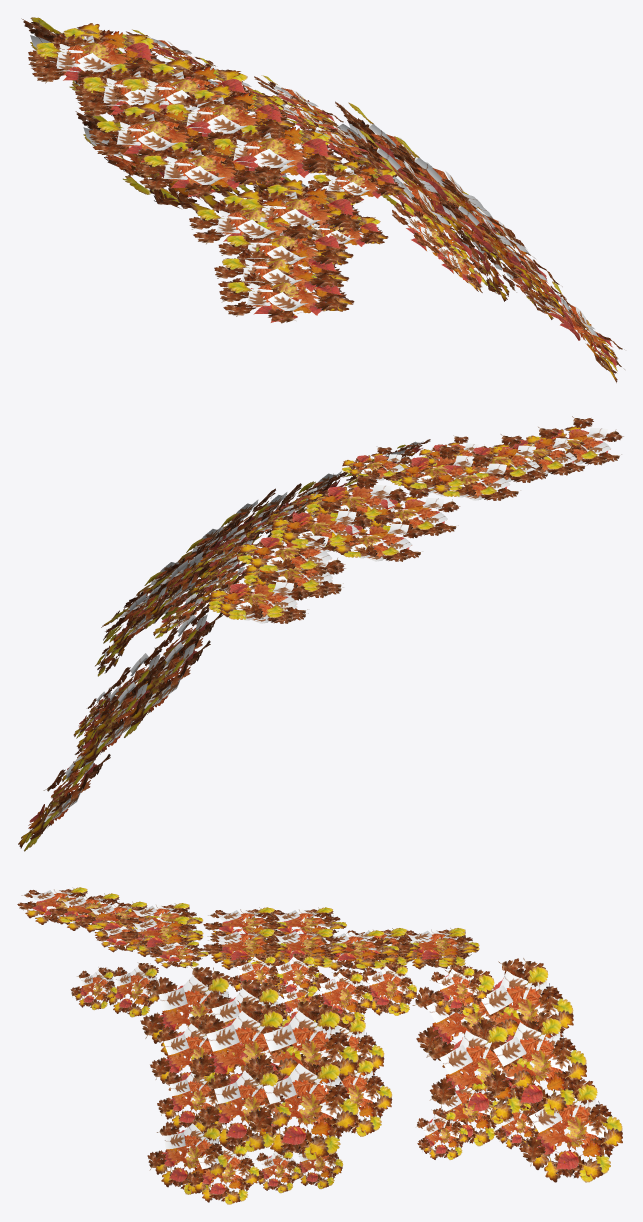
Rendered from SideHill_Leaves.obj.
3 renders of one model, top to bottom at view 1: azimuth 30°, elevation 25°; view 2: azimuth 150°, elevation 25°; view 3: azimuth 270°, elevation 25°, orthographic. The views are drawn at different scales.
Parts seen in each view (by area): view 1: Hill_Leaves; view 2: Hill_Leaves; view 3: Hill_Leaves.
Boxes of the visible parts, <box> form: Hill_Leaves: <box>21,17,624,382</box>; Hill_Leaves: <box>18,416,623,851</box>; Hill_Leaves: <box>17,887,622,1204</box>.
Bounding box in the file's own units: 0.4849 × 0.2779 × 0.7995.
